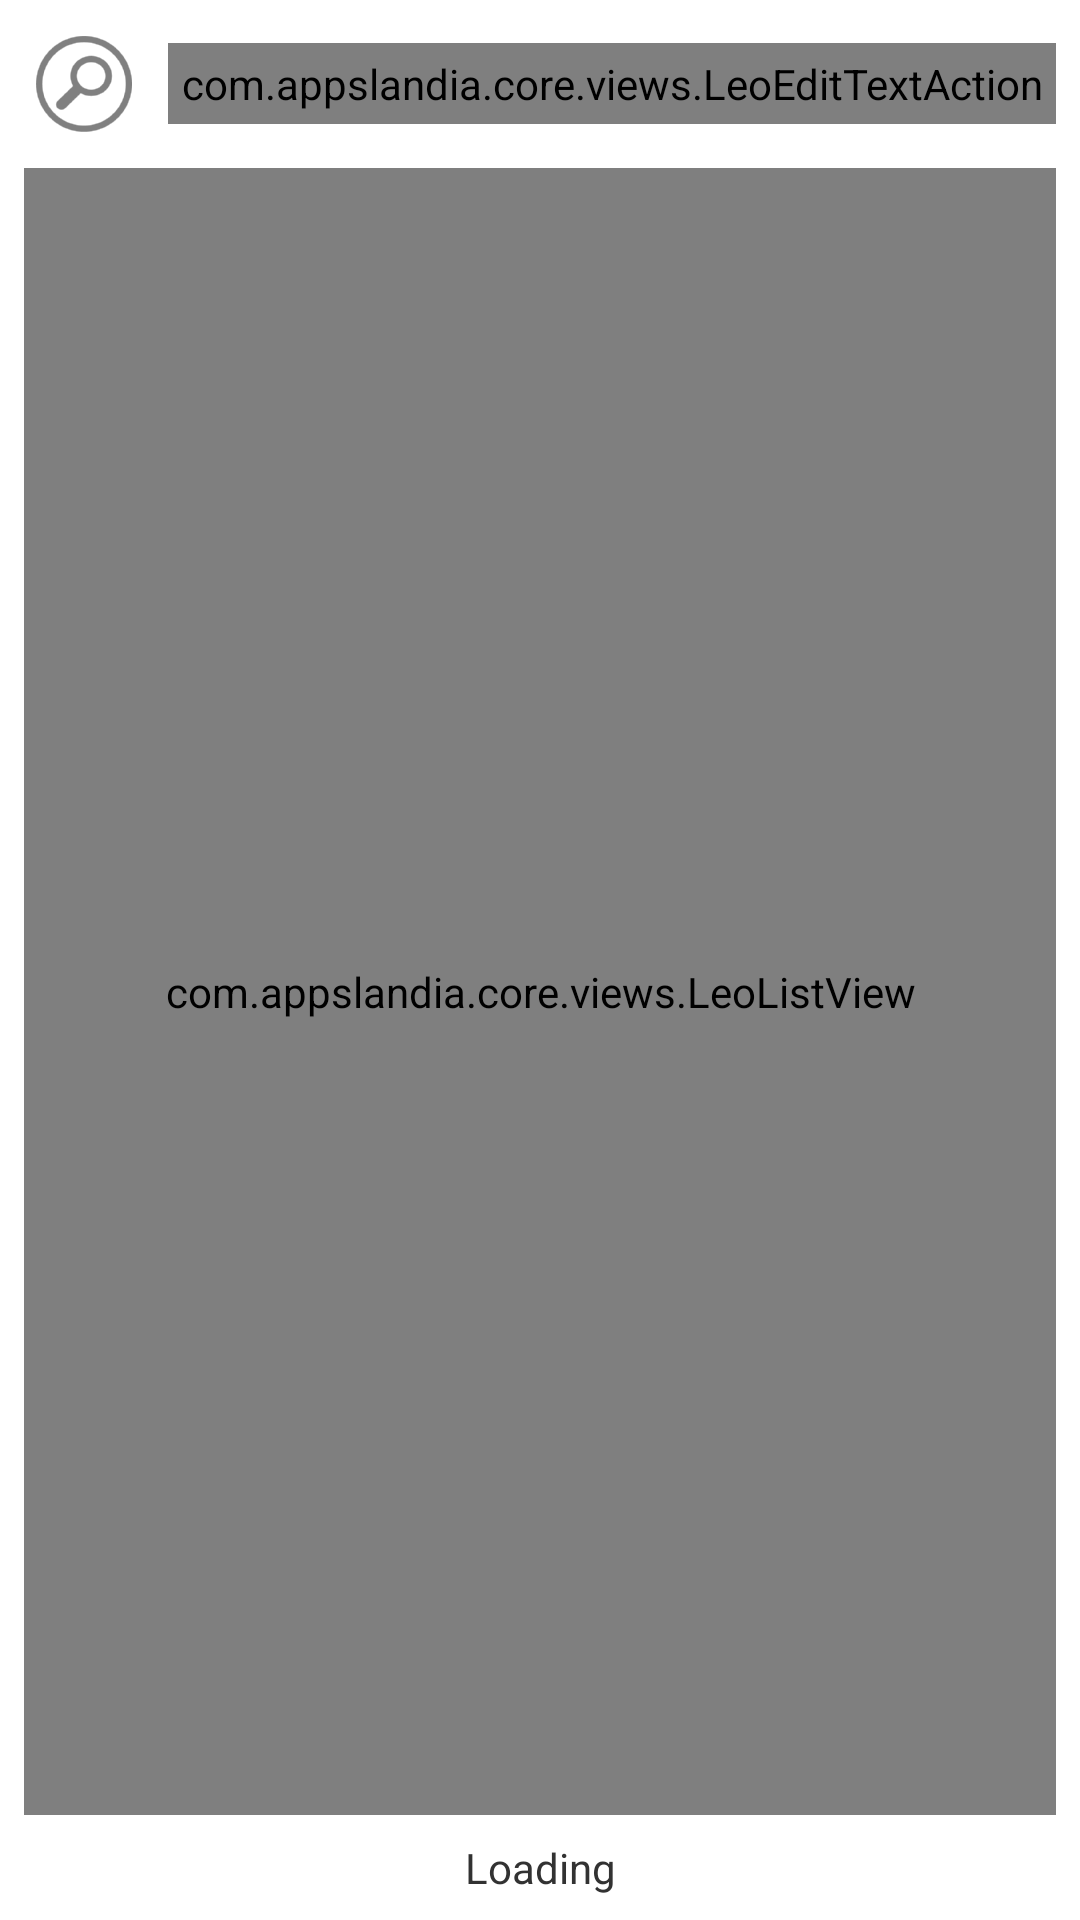

Icons on this 1080px x 1920px Android screen, each with its box as region(x1, y1, x2, y2):
search: region(36, 36, 132, 132)
